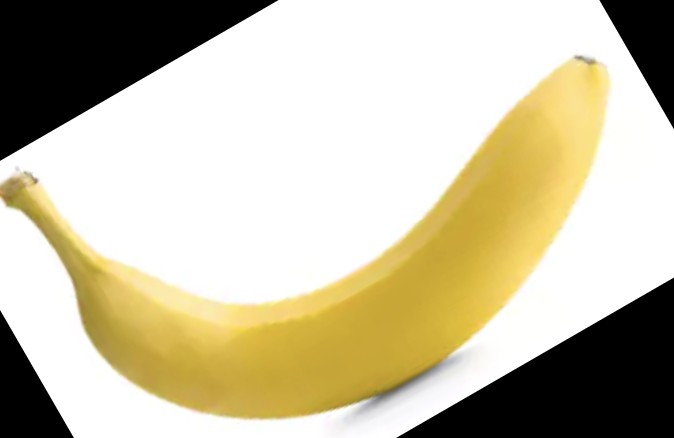fresh_banana: (1, 55, 610, 414)
